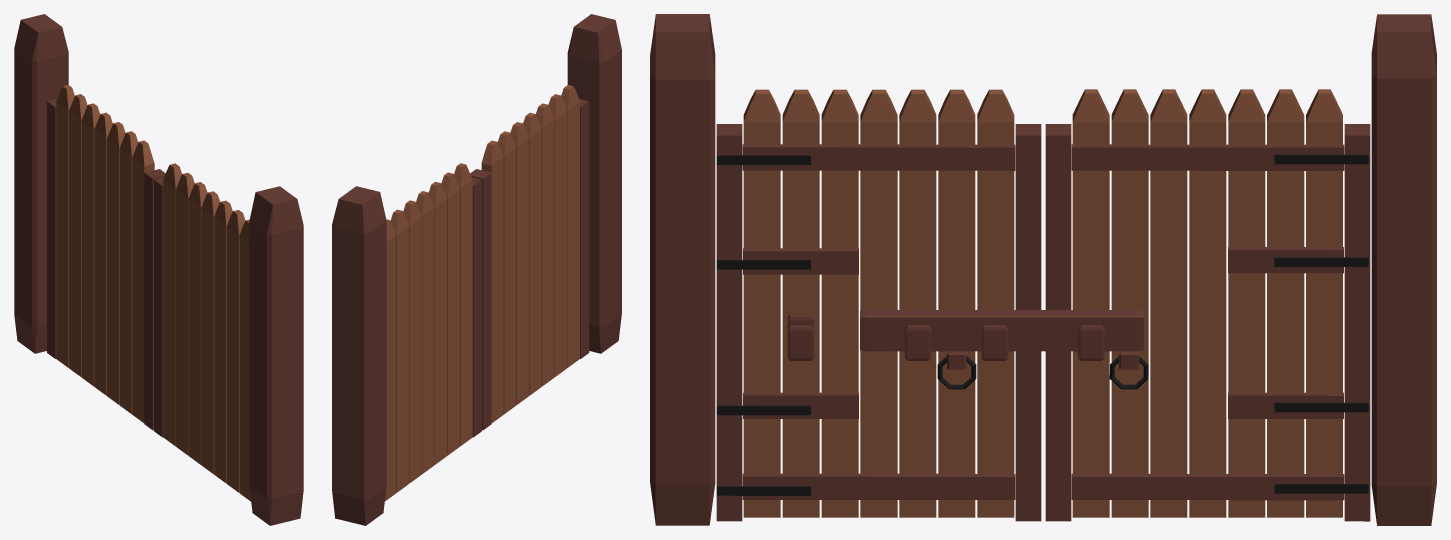
Rendered from gate_02.fbx.
3 renders of one model, left to right at view 1: azimuth 30°, elevation 25°; view 2: azimuth 150°, elevation 25°; view 3: azimuth 270°, elevation 25°, orthographic. The views are drawn at different scales.
Visible parts, largest first — view 1: gate right, gate left, stand left, stand right; view 2: gate left, gate right, stand right, stand left; view 3: gate right, gate left, stand right, stand left, balk.
Boxes of the visible parts, x1,y1,x2,y2 form: gate right: (47, 85, 165, 430); gate left: (154, 163, 251, 501); stand left: (249, 186, 303, 525); stand right: (14, 14, 68, 353); gate left: (470, 85, 589, 430); gate right: (385, 163, 481, 501); stand right: (332, 186, 386, 525); stand left: (567, 14, 621, 353); gate right: (1045, 89, 1370, 521); gate left: (716, 89, 1041, 521); stand right: (1371, 14, 1436, 525); stand left: (650, 14, 715, 525); balk: (860, 310, 1144, 351).
Bounding box in the file's own units: 227 × 1654 × 2401.
